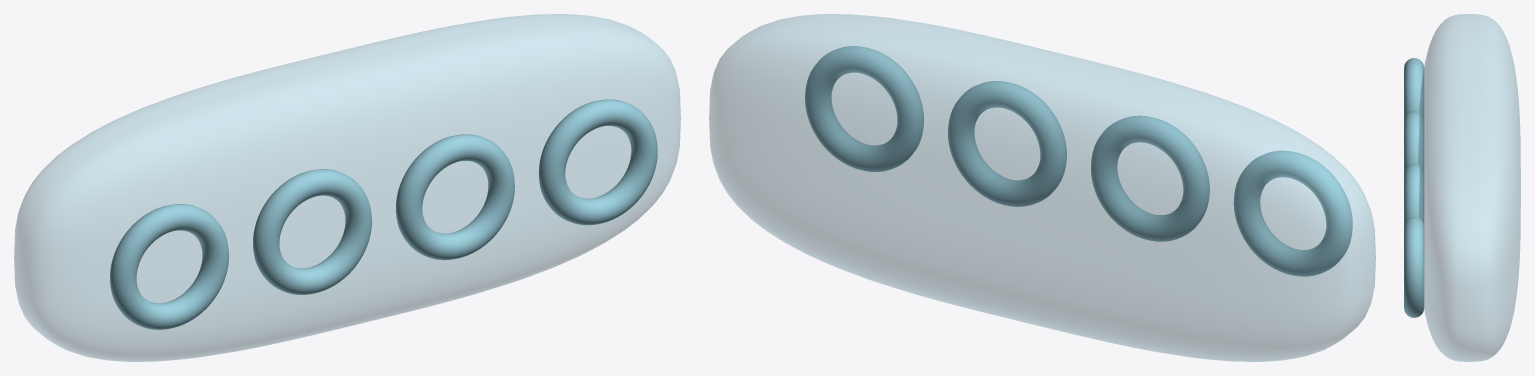
The picture shows the model from 3 angles, left to right: view 1: azimuth 30°, elevation 25°; view 2: azimuth 150°, elevation 25°; view 3: azimuth 270°, elevation 25°; orthographic projection. The views are drawn at different scales.
Parts seen in each view (by area): view 1: buoyant-dock, socket-3, socket-2, socket-0, socket-1; view 2: buoyant-dock, socket-0, socket-1, socket-2, socket-3; view 3: buoyant-dock, socket-3, socket-0, socket-1, socket-2.
Boxes of the visible parts, x1=… form: buoyant-dock: x1=14, y1=14, x2=680, y2=361; socket-3: x1=538, y1=99, x2=657, y2=225; socket-2: x1=396, y1=134, x2=514, y2=260; socket-0: x1=110, y1=204, x2=228, y2=329; socket-1: x1=253, y1=169, x2=371, y2=294; buoyant-dock: x1=709, y1=14, x2=1375, y2=361; socket-0: x1=1233, y1=150, x2=1352, y2=276; socket-1: x1=1091, y1=115, x2=1209, y2=241; socket-2: x1=948, y1=81, x2=1066, y2=206; socket-3: x1=805, y1=46, x2=923, y2=171; buoyant-dock: x1=1418, y1=14, x2=1520, y2=361; socket-3: x1=1404, y1=216, x2=1424, y2=317; socket-0: x1=1404, y1=58, x2=1424, y2=119; socket-1: x1=1404, y1=111, x2=1424, y2=172; socket-2: x1=1404, y1=164, x2=1424, y2=225.
Size of the model in its own units: 3.1 by 1.16 by 0.635.
